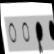correct: (48, 18, 54, 42)
not correct: (33, 18, 45, 54)
